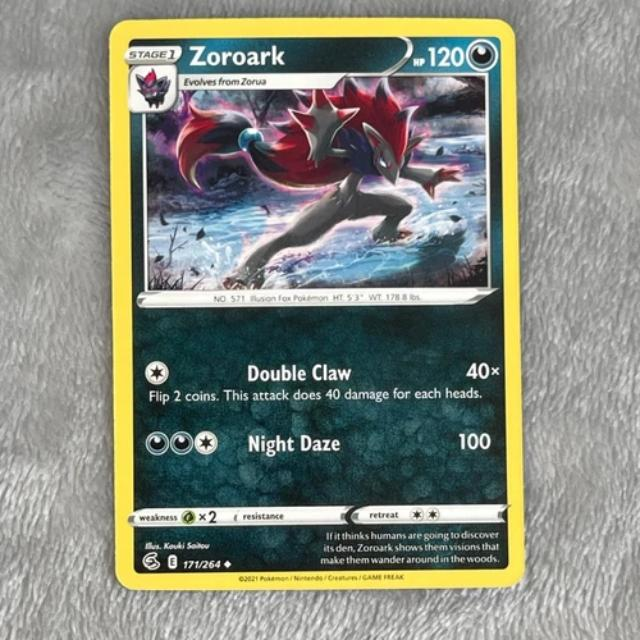Card: (105, 15, 530, 594)
Name: (184, 41, 288, 69)
